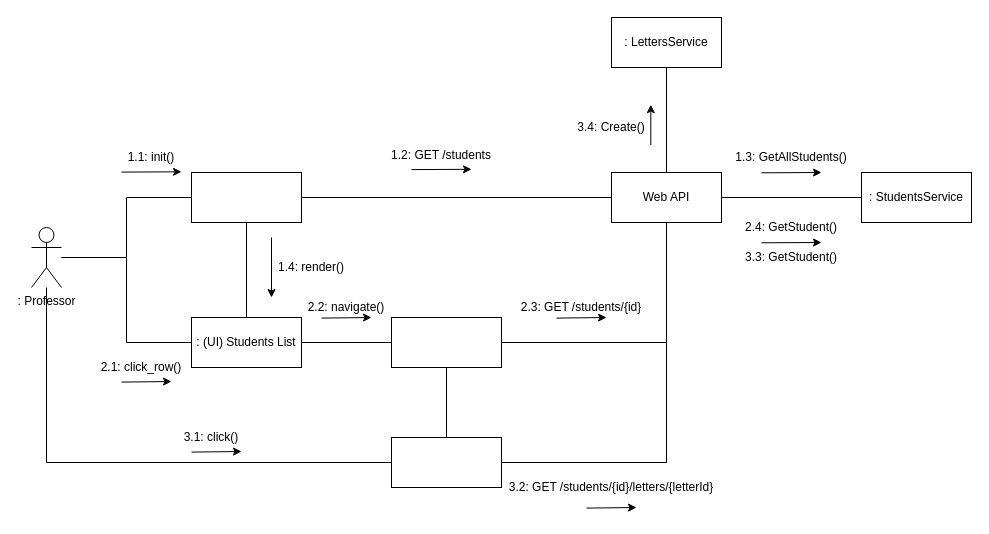
This 989x534 diagram has some shape labels left out. Here are the shapes that lost their labels. From the top down, the centre of each, then its label:
At point (246, 197): ": (UI) Home Page".
At point (446, 342): ": (UI) Student Page".
At point (446, 462): ": (UI) 'Letter' Button".
